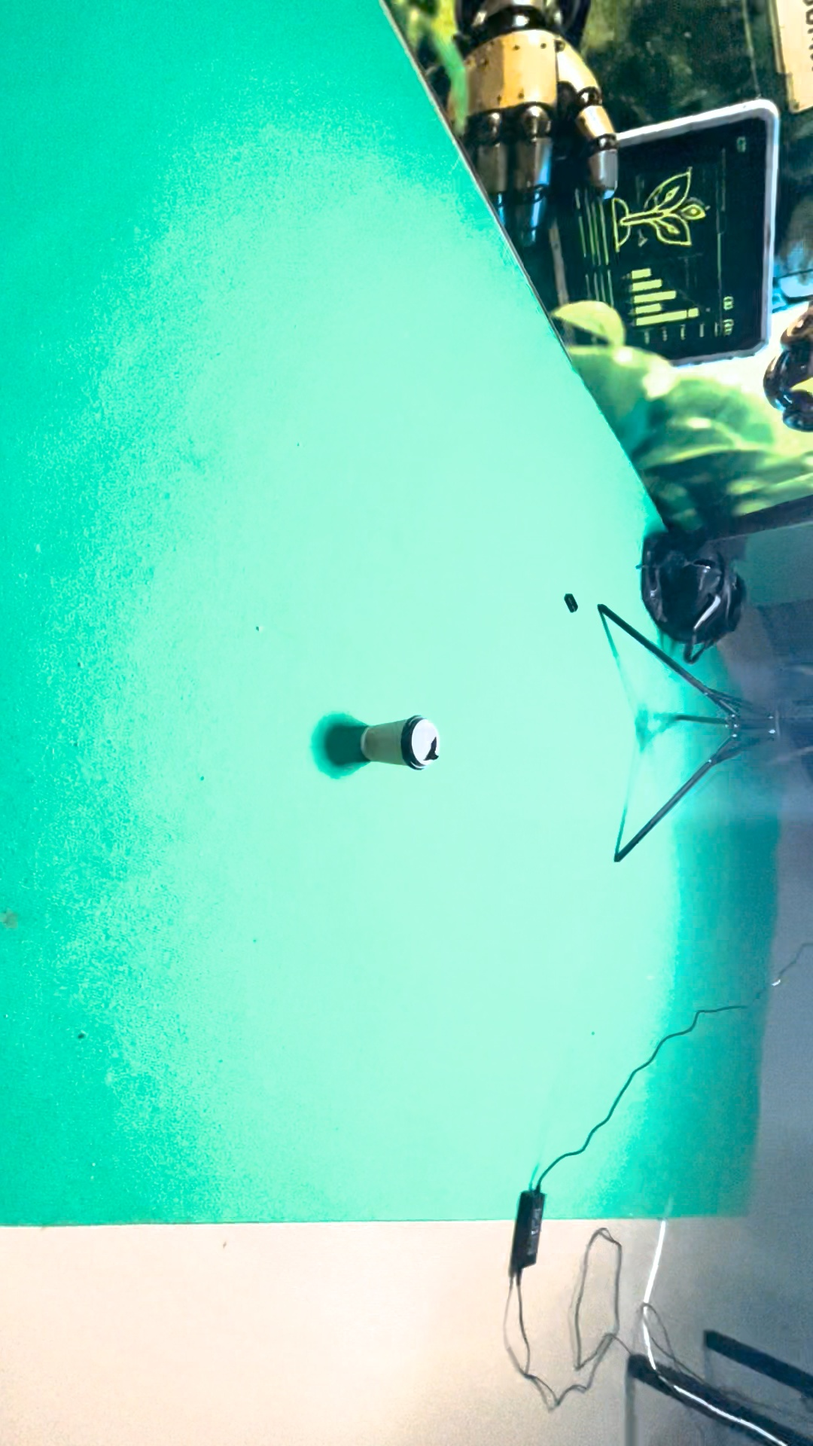cup: (430, 419, 516, 836)
